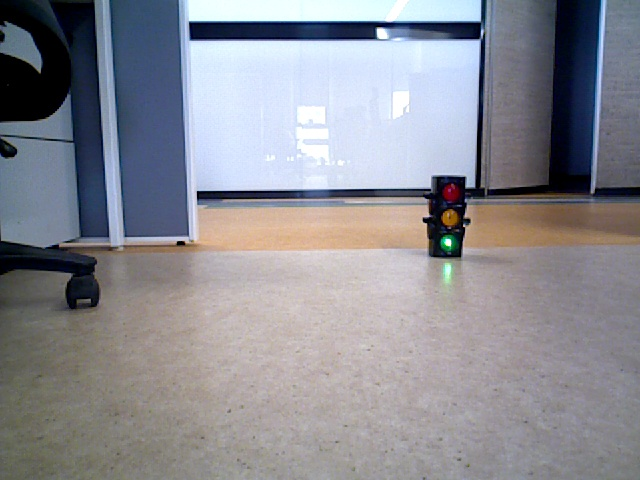green: (431, 174, 463, 256)
